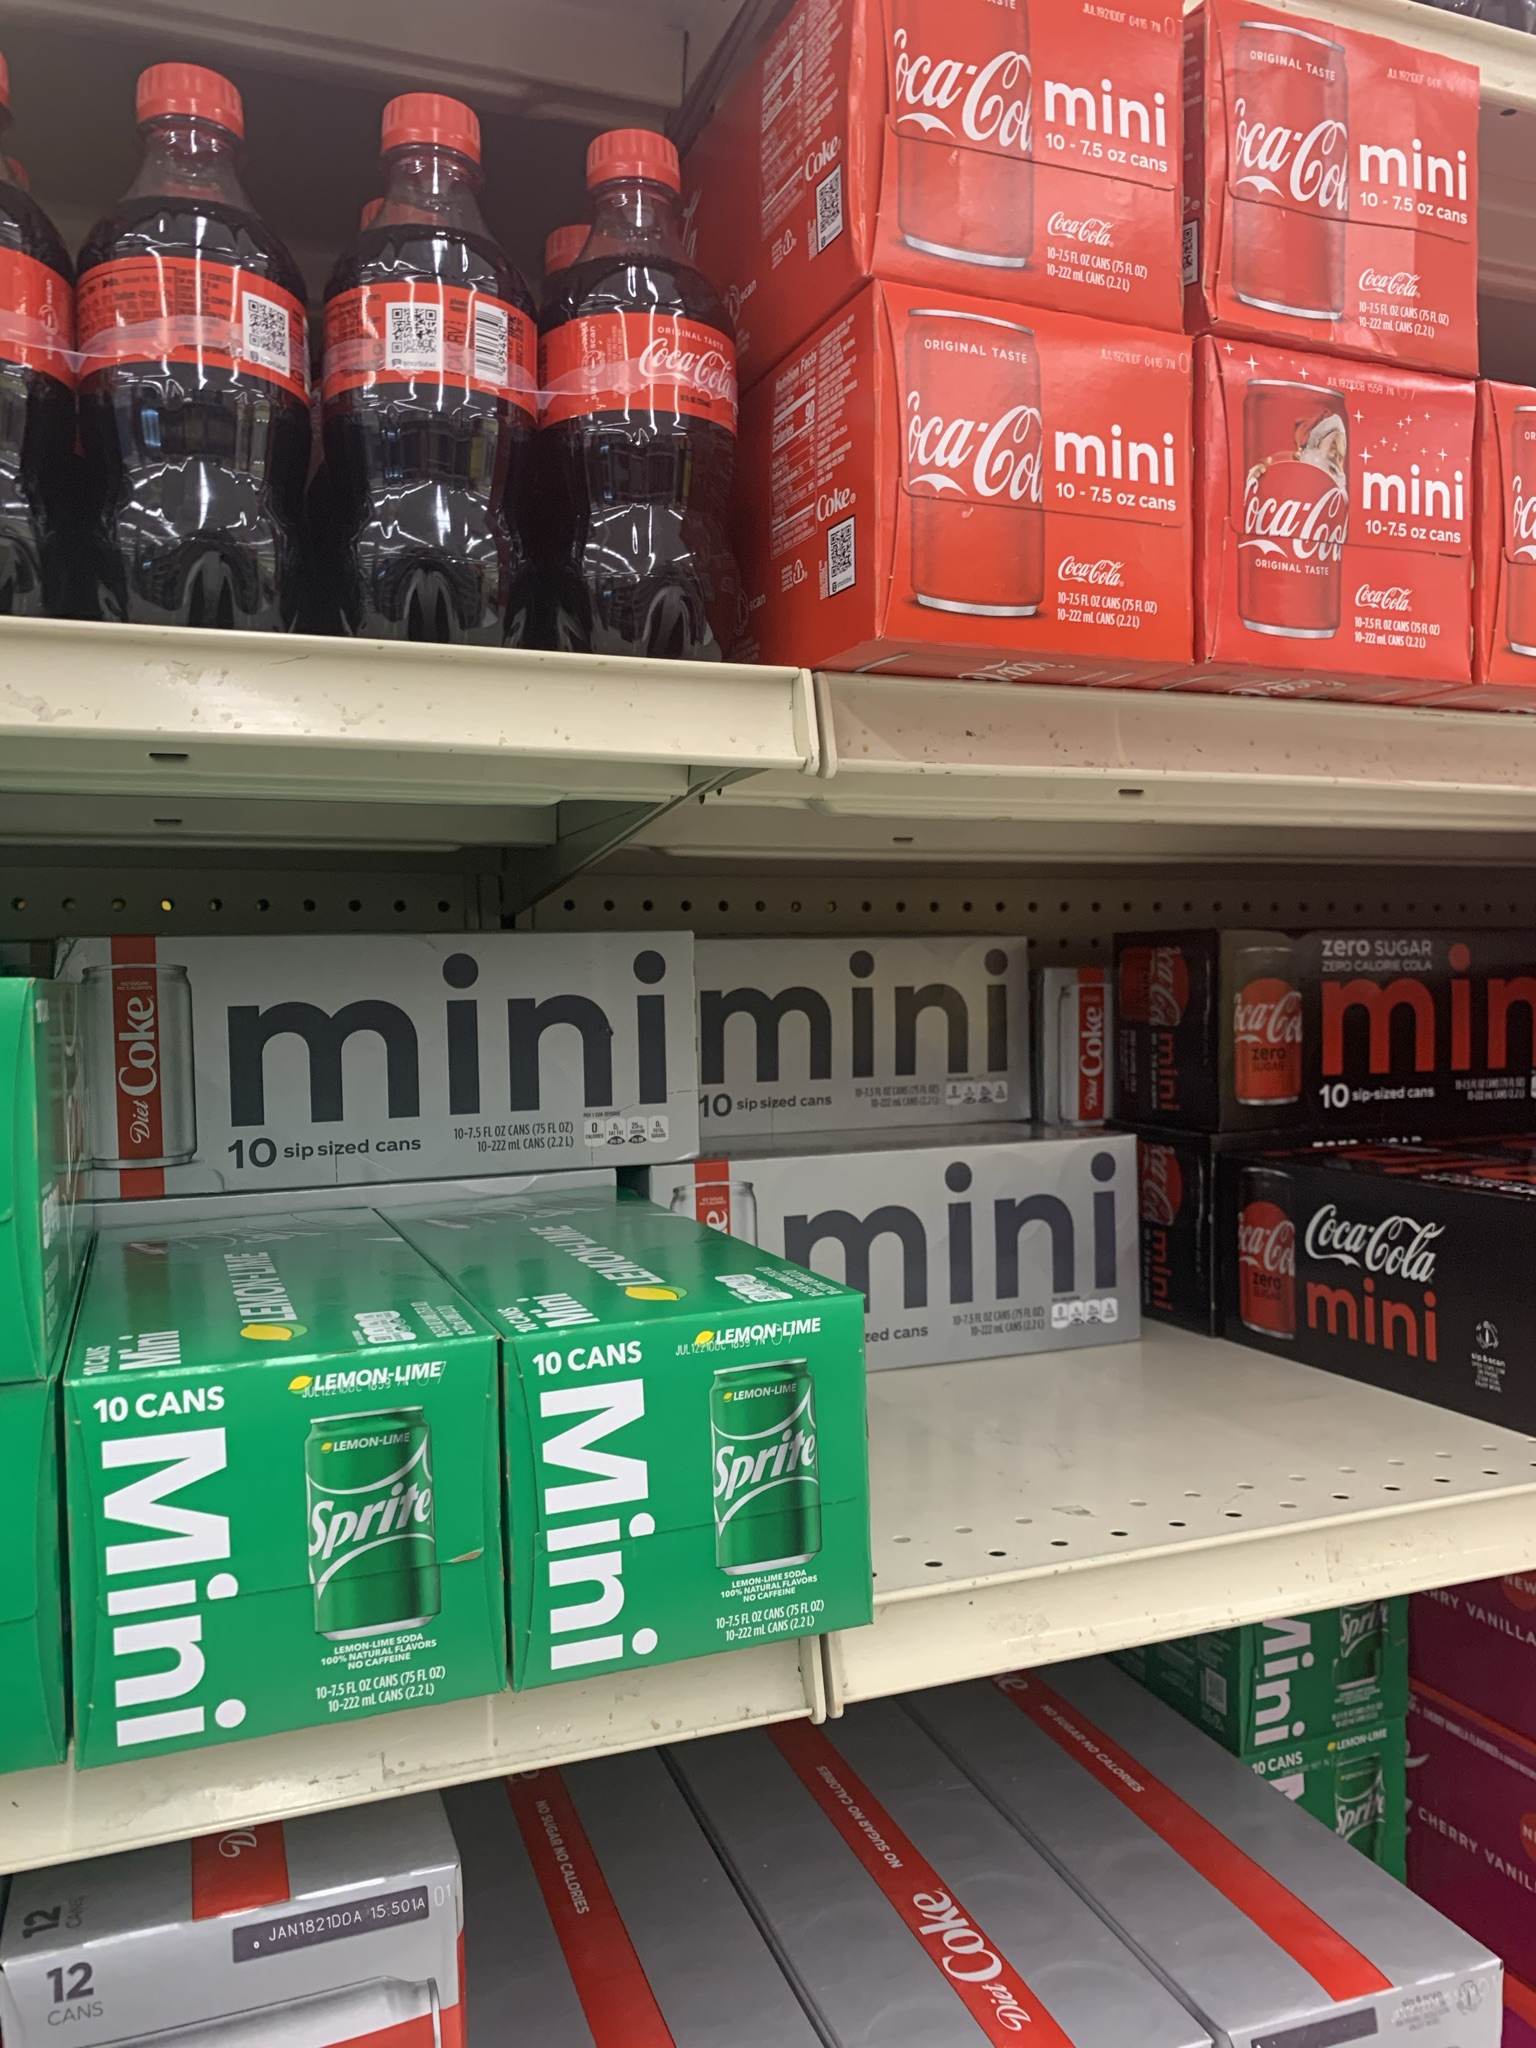box: (71, 935, 679, 1156), (84, 1374, 487, 1680), (883, 327, 1186, 642), (858, 8, 1186, 281), (531, 1347, 862, 1614), (1213, 366, 1475, 672), (1225, 60, 1483, 332), (1204, 934, 1536, 1126), (708, 943, 1025, 1134), (866, 1151, 1134, 1351)
